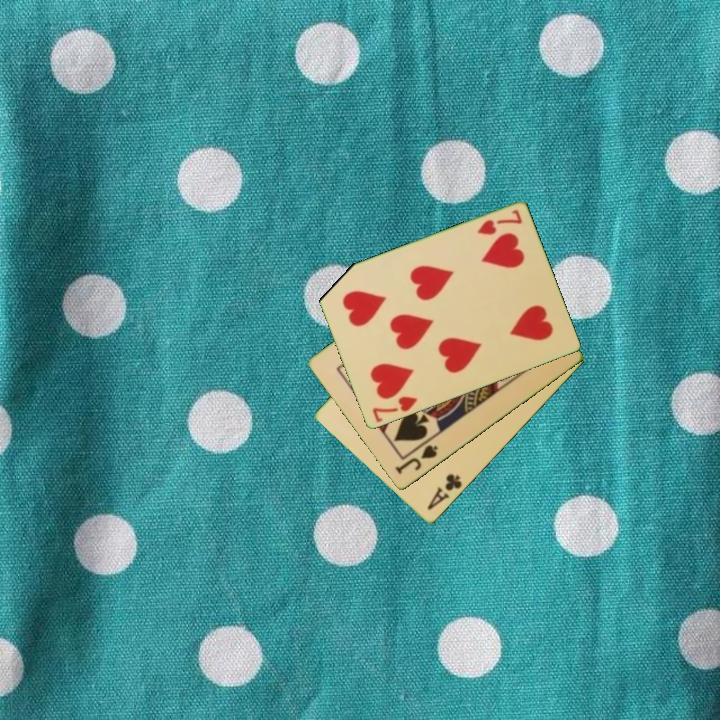7h: (368, 393, 421, 426), (473, 206, 525, 238)
Ac: (424, 470, 465, 513)
Js: (391, 442, 441, 478)
